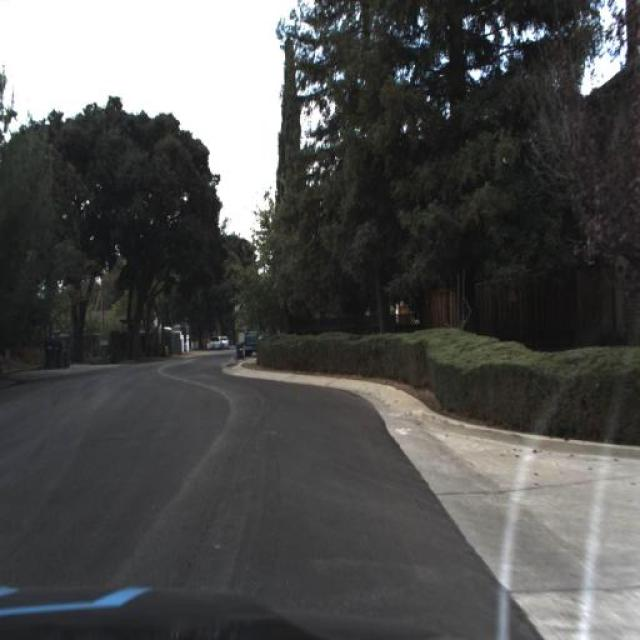car: (244, 305, 278, 357), (208, 337, 222, 351), (220, 337, 230, 349)
